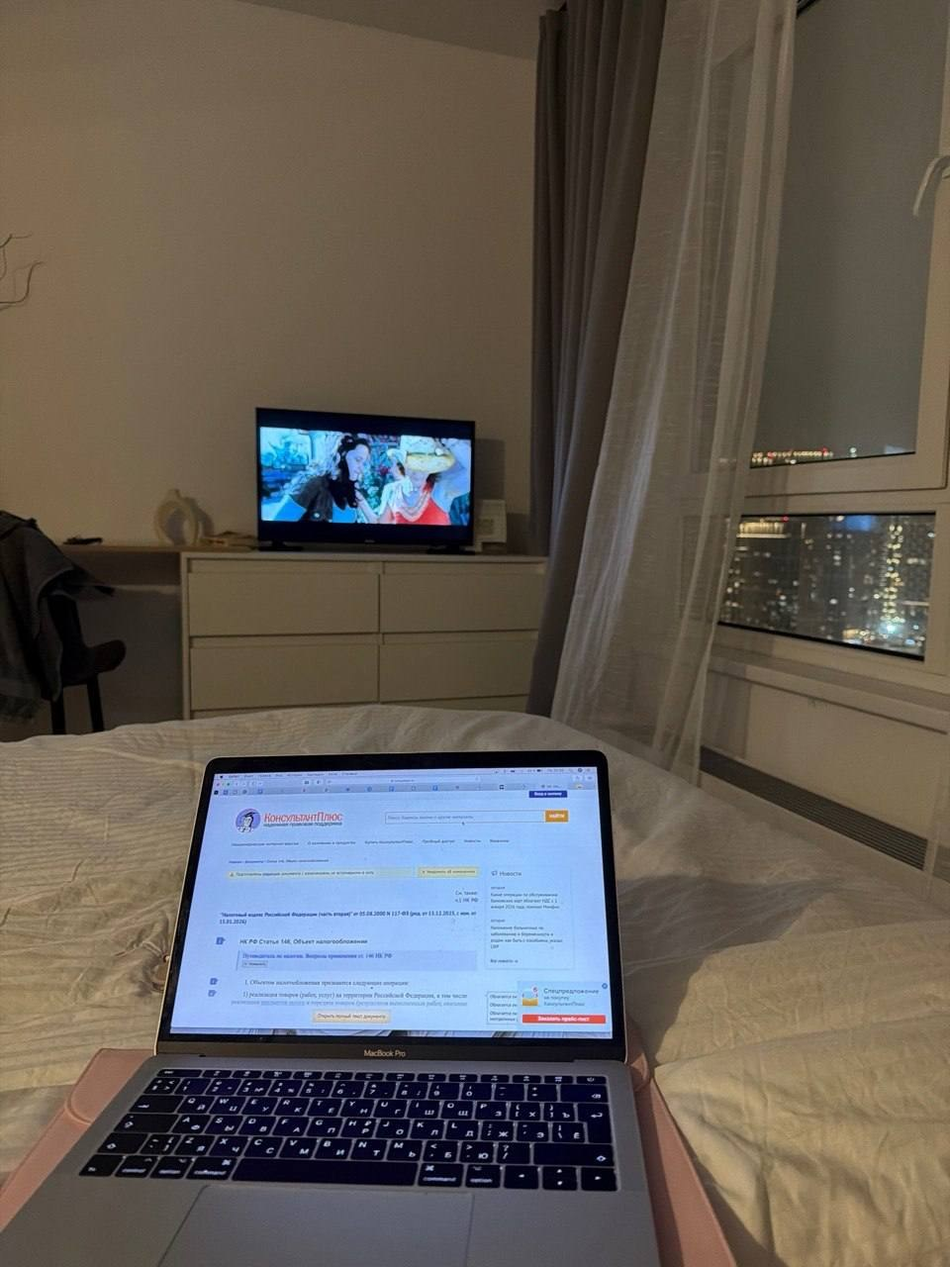laptop: (1, 748, 662, 1264)
